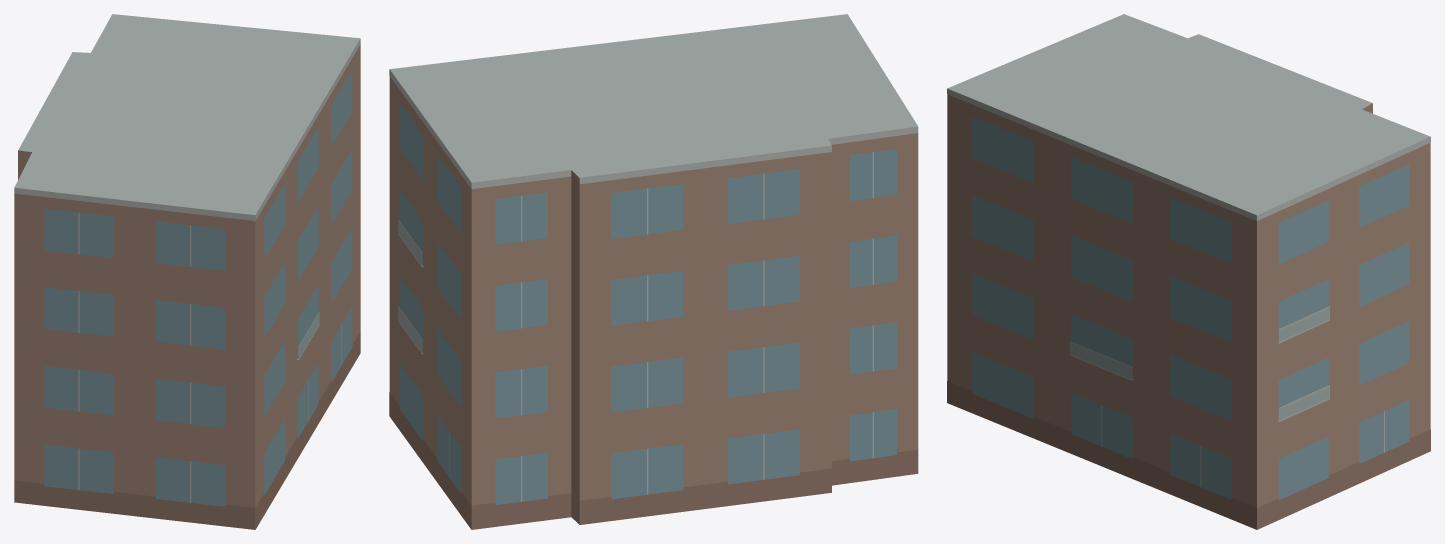
File: survey-upis-32746560.glb
The picture shows the model from 3 angles, left to right: view 1: azimuth 30°, elevation 25°; view 2: azimuth 150°, elevation 25°; view 3: azimuth 270°, elevation 25°; orthographic projection. The views are drawn at different scales.
Parts seen in each view (by area): view 1: survey-upis-32746560.tmp; view 2: survey-upis-32746560.tmp; view 3: survey-upis-32746560.tmp.
Part boxes in pixels (x1,y1,x2,y2): survey-upis-32746560.tmp: (14, 14, 360, 529); survey-upis-32746560.tmp: (389, 14, 918, 529); survey-upis-32746560.tmp: (947, 14, 1430, 529).
Bounding box in the file's own units: 18.13 × 13.2 × 18.41.
